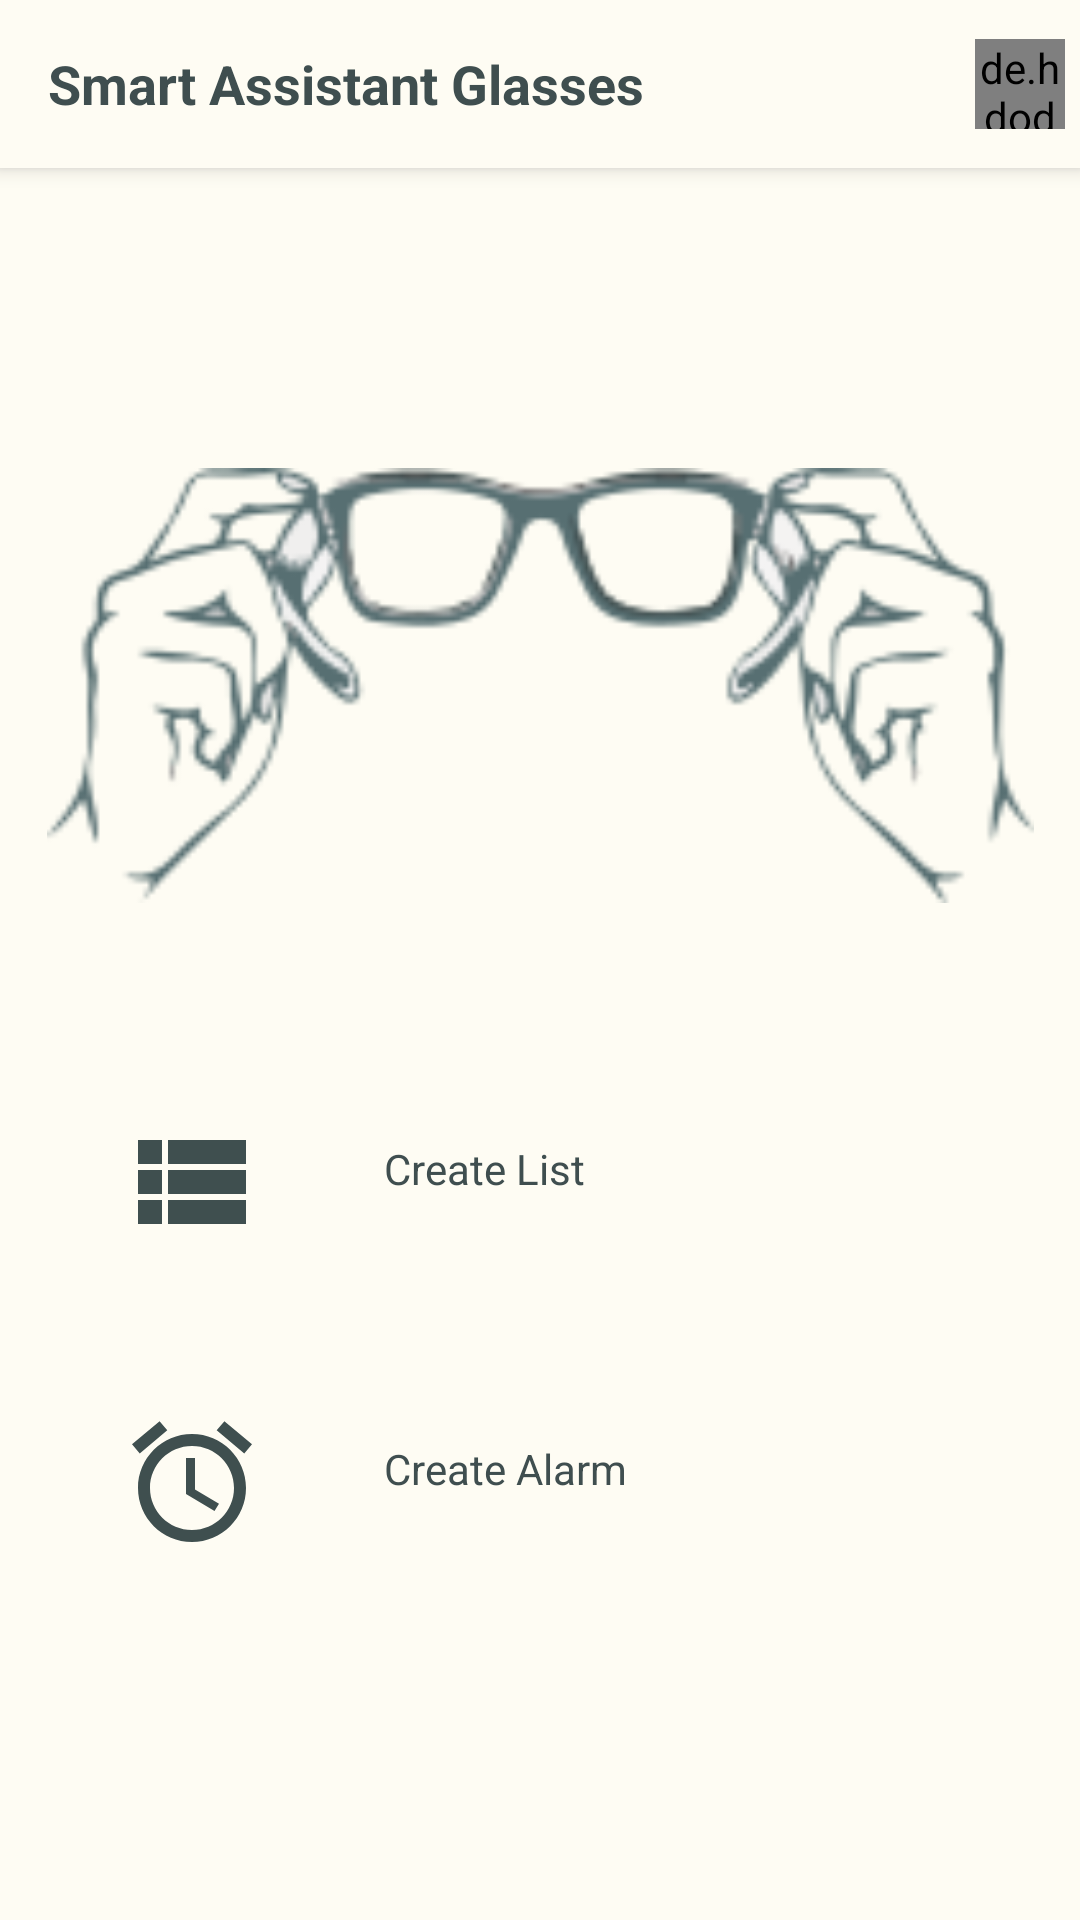

Icons on this 1080x1920 Android screen, each with the point to tap as [x,y]:
view list: [192,1182]
